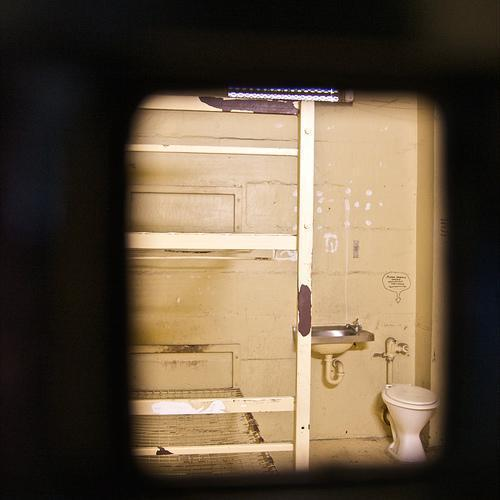Lavaplatos: (287, 316, 371, 357)
Sanitario: (374, 333, 435, 461)
